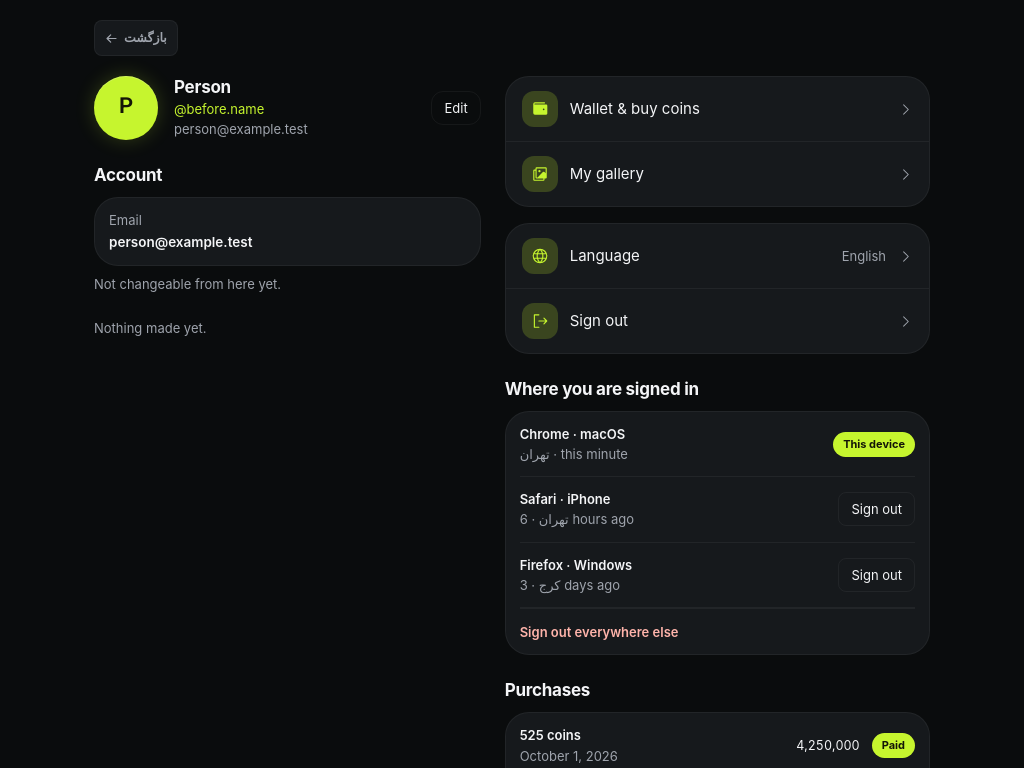
it: the profile screen › reports a taken username as taken
Click the button "Edit" at (456, 108), box top-left (432, 91), bottom-right (481, 125)
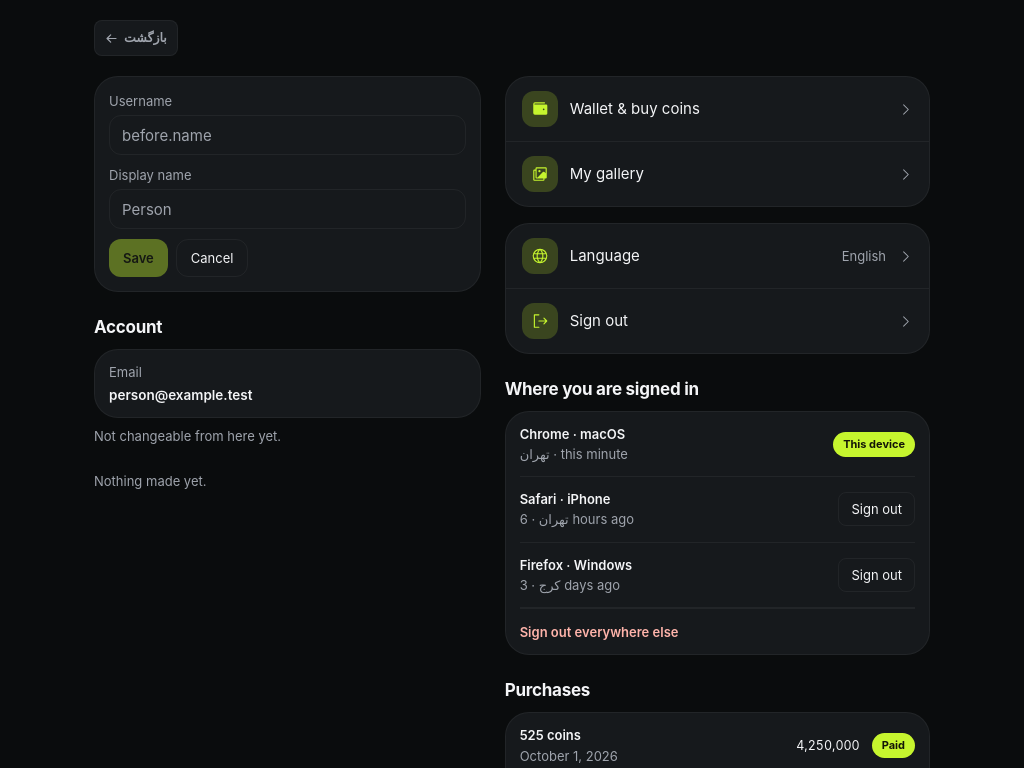
Replace the text in the field labelled "Username" with "taken" at (287, 135), box top-left (109, 115), bottom-right (466, 155)
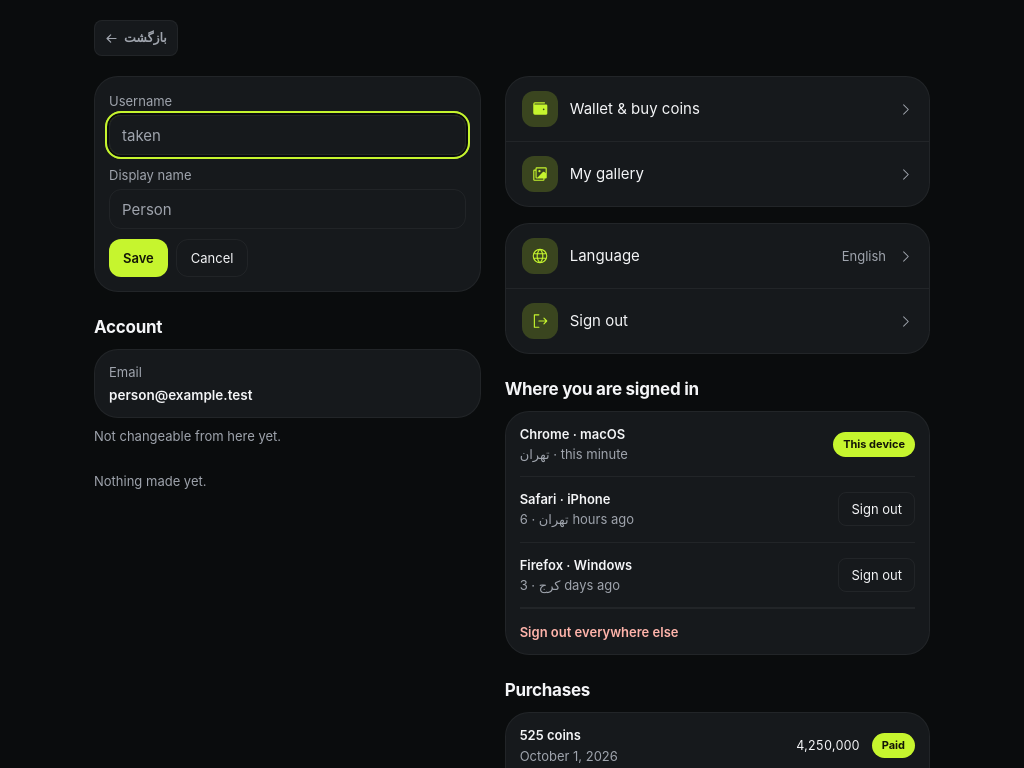
Click the button "Save" at (138, 258), box top-left (109, 239), bottom-right (168, 277)
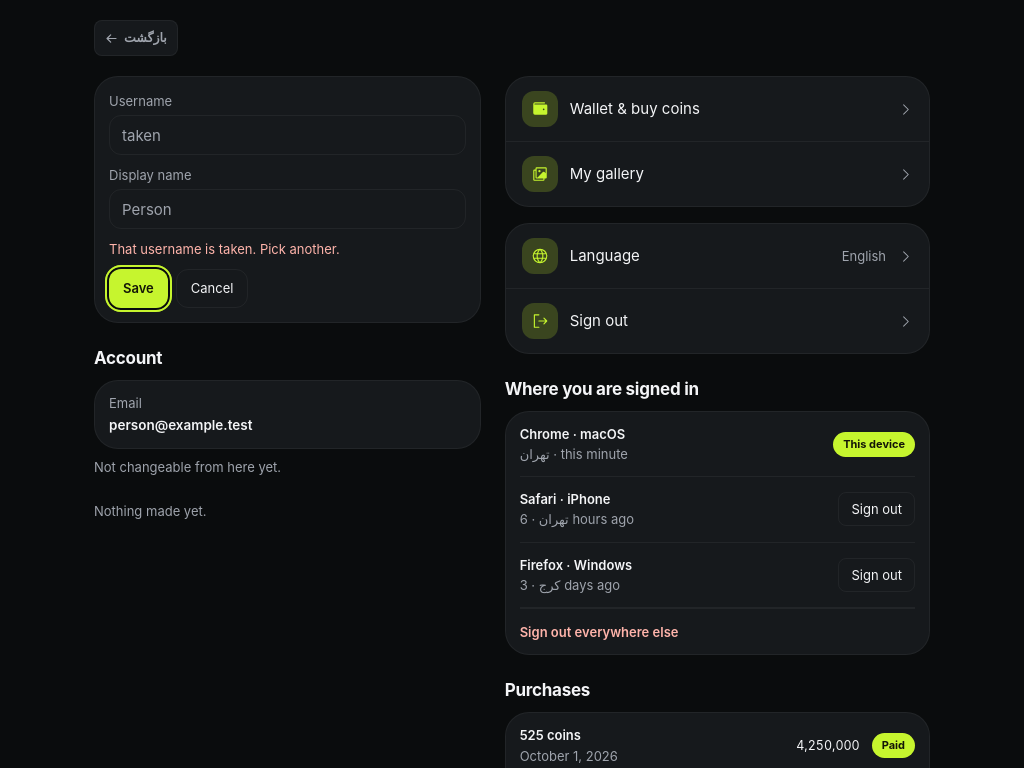
Expected: the message reads "That username is taken. Pick another.", top-left (109, 241), bottom-right (340, 257)
